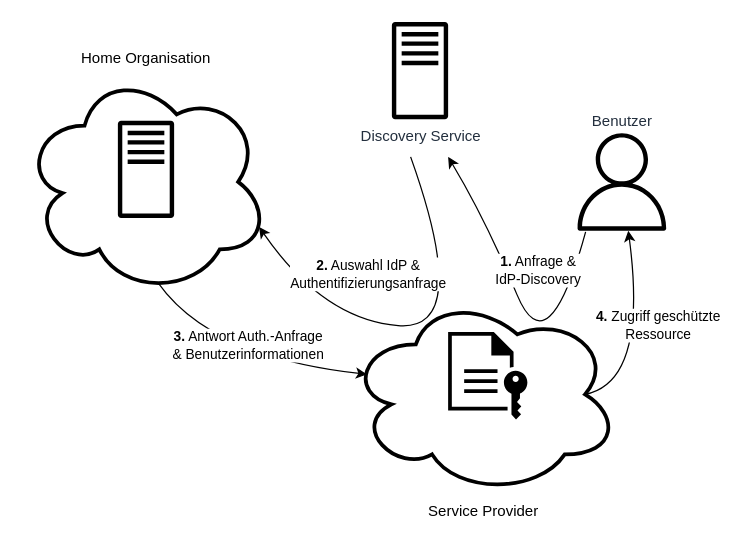
Image size: 741x541. Some labels were removed from this diagram. Each missing label, with the centre of its shape:
"geschützte Ressource" belongs at [487,375].
"Identity Provider" belongs at [145,169].
